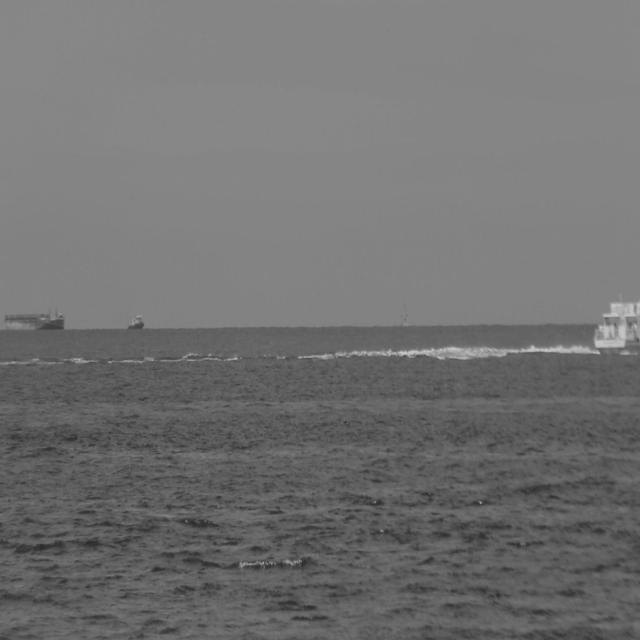ship: (592, 297, 640, 363), (1, 301, 62, 327)
